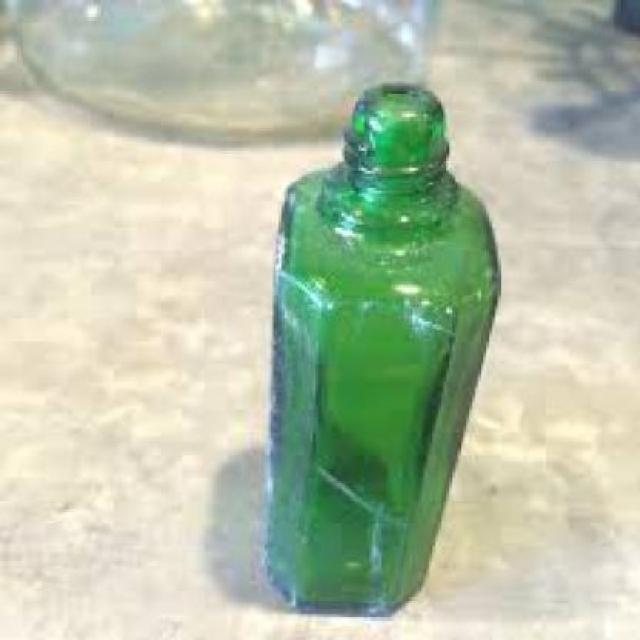kaca: (262, 83, 498, 609), (11, 0, 435, 143)
